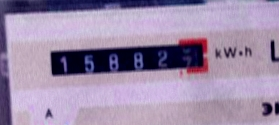1: (55, 54, 67, 73)
2: (154, 48, 166, 68)
5: (80, 53, 92, 73)
7: (179, 54, 190, 69)
8: (105, 51, 117, 72), (130, 50, 142, 71)
screen: (39, 33, 216, 84)
